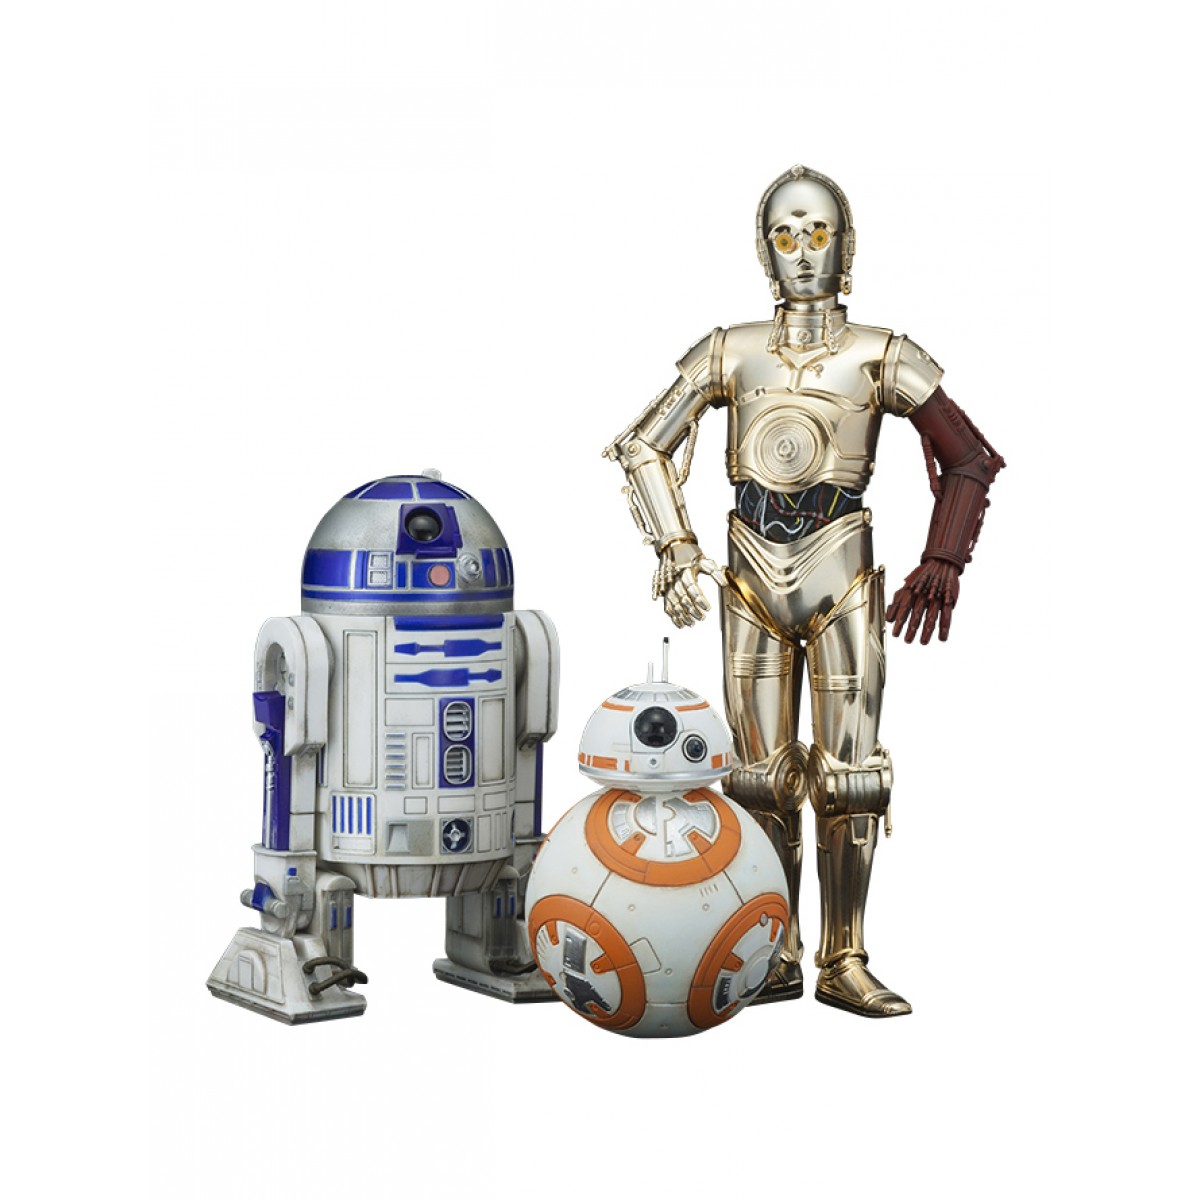r2d2: (213, 474, 535, 1016)
